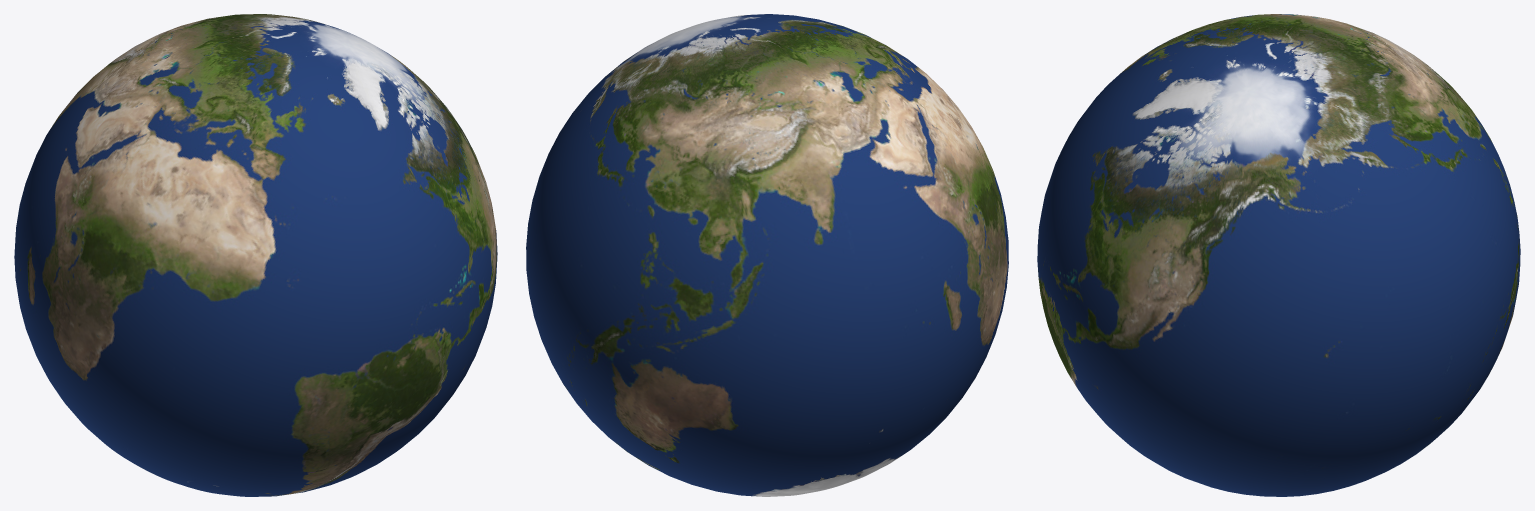
Rendered from earth_8k_texture.glb.
The picture shows the model from 3 angles, left to right: view 1: azimuth 30°, elevation 25°; view 2: azimuth 150°, elevation 25°; view 3: azimuth 270°, elevation 25°; orthographic projection.
Visible parts, largest first — view 1: Sphere_0; view 2: Sphere_0; view 3: Sphere_0.
Part boxes in pixels (x1,y1,x2,y2): Sphere_0: (14, 14, 497, 496); Sphere_0: (526, 14, 1008, 496); Sphere_0: (1037, 14, 1520, 496).
Bounding box in the file's own units: 13.29 × 13.3 × 13.29.
Materials: 1 (1 with a texture image).
